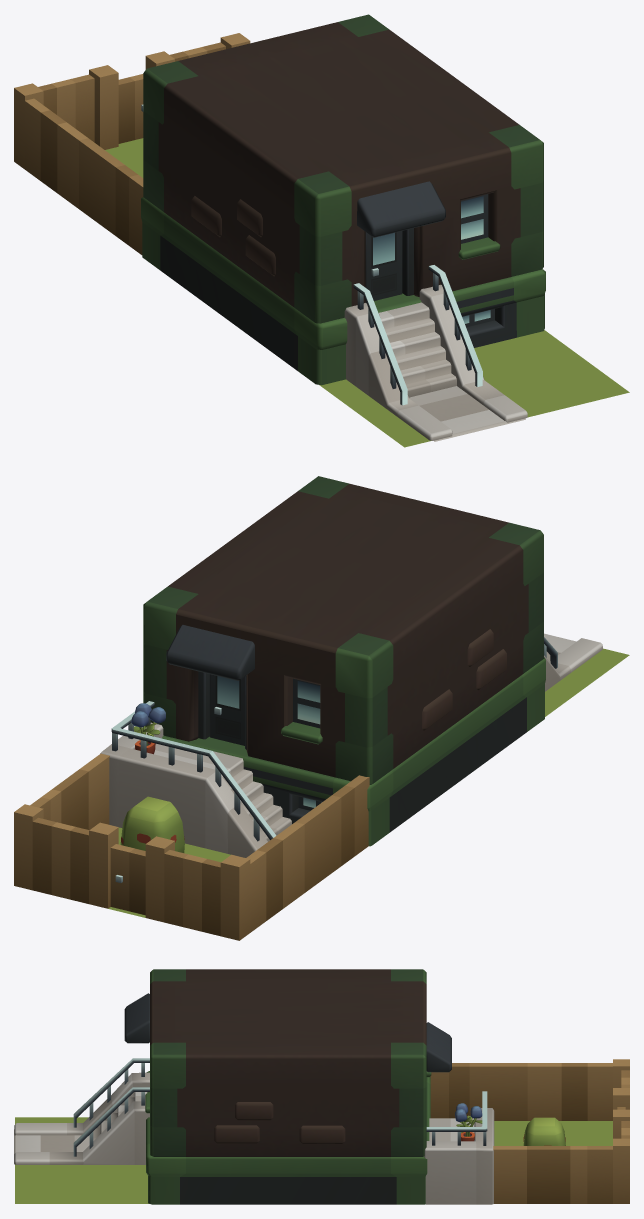
The model's file is appartment_type1_x3_ground_brown.fbx.
The picture shows the model from 3 angles, top to bottom: view 1: azimuth 30°, elevation 25°; view 2: azimuth 150°, elevation 25°; view 3: azimuth 270°, elevation 25°; orthographic projection. The views are drawn at different scales.
Visible parts, largest first — view 1: appartment_type1_x3_ground_brown, door_front_appartment_type1_x3_ground, door_garden_appartment_type1_x3_ground; view 2: appartment_type1_x3_ground_brown, door_back_appartment_type1_x3_ground, door_garden_appartment_type1_x3_ground; view 3: appartment_type1_x3_ground_brown.
Part boxes in pixels (x1,y1,x2,y2): appartment_type1_x3_ground_brown: [14, 14, 629, 447]; door_front_appartment_type1_x3_ground: [367, 231, 402, 300]; door_garden_appartment_type1_x3_ground: [118, 74, 143, 143]; appartment_type1_x3_ground_brown: [14, 476, 629, 940]; door_back_appartment_type1_x3_ground: [209, 674, 244, 745]; door_garden_appartment_type1_x3_ground: [110, 844, 145, 915]; appartment_type1_x3_ground_brown: [14, 969, 629, 1204].
Size of the model in its own units: 628 by 487 by 1803.
